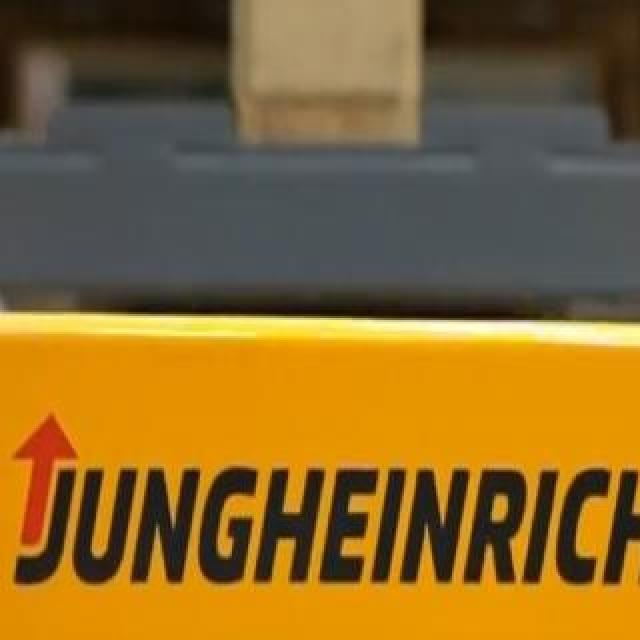car: (0, 324, 640, 640)
pallet: (0, 146, 640, 286)
